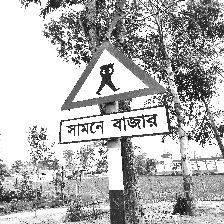Market-in-front: (58, 40, 171, 145)
